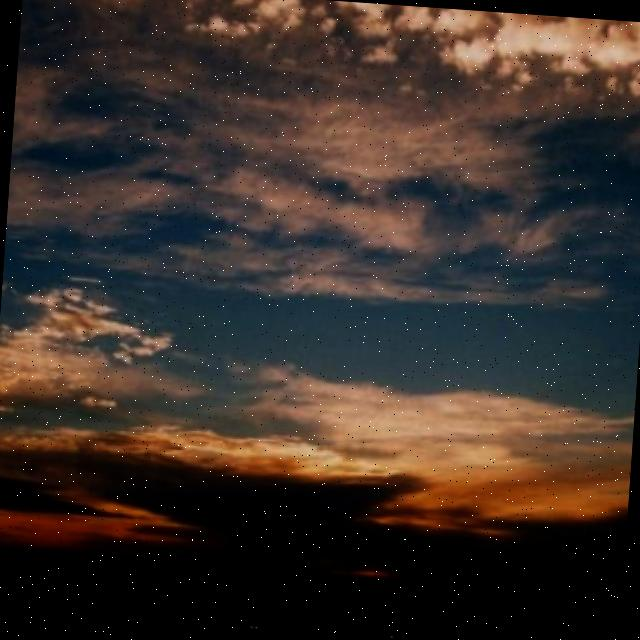As: (1, 1, 640, 482)
